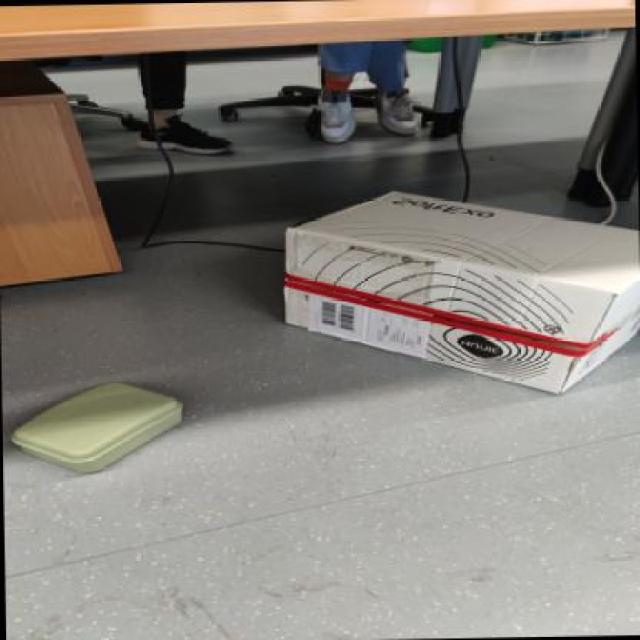box: (220, 172, 640, 397), (3, 364, 194, 490)
